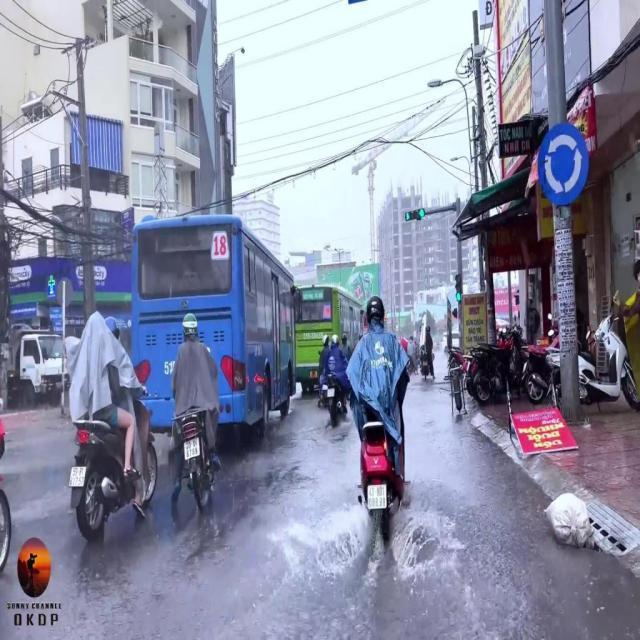303-noi-giao-nhau-chay-theo-vong-xuyen: (538, 124, 590, 206)
